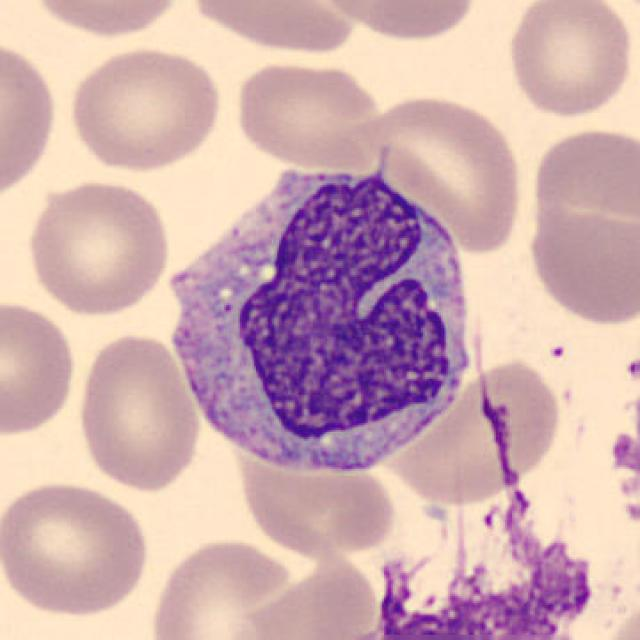Monocyte: (157, 150, 486, 486)
Platelets: (604, 420, 640, 526), (606, 426, 638, 479), (620, 352, 640, 388)
RBC: (366, 90, 528, 257), (378, 362, 530, 509), (0, 476, 153, 621), (22, 176, 175, 319), (73, 330, 204, 495), (64, 42, 226, 174), (231, 449, 404, 559), (231, 56, 388, 171), (147, 534, 300, 640), (505, 0, 640, 120), (524, 206, 638, 328), (241, 540, 387, 635), (526, 122, 638, 235), (0, 296, 80, 439), (476, 356, 566, 481), (0, 34, 62, 205), (185, 0, 361, 55), (313, 0, 482, 44), (23, 0, 187, 41), (604, 418, 640, 539)
